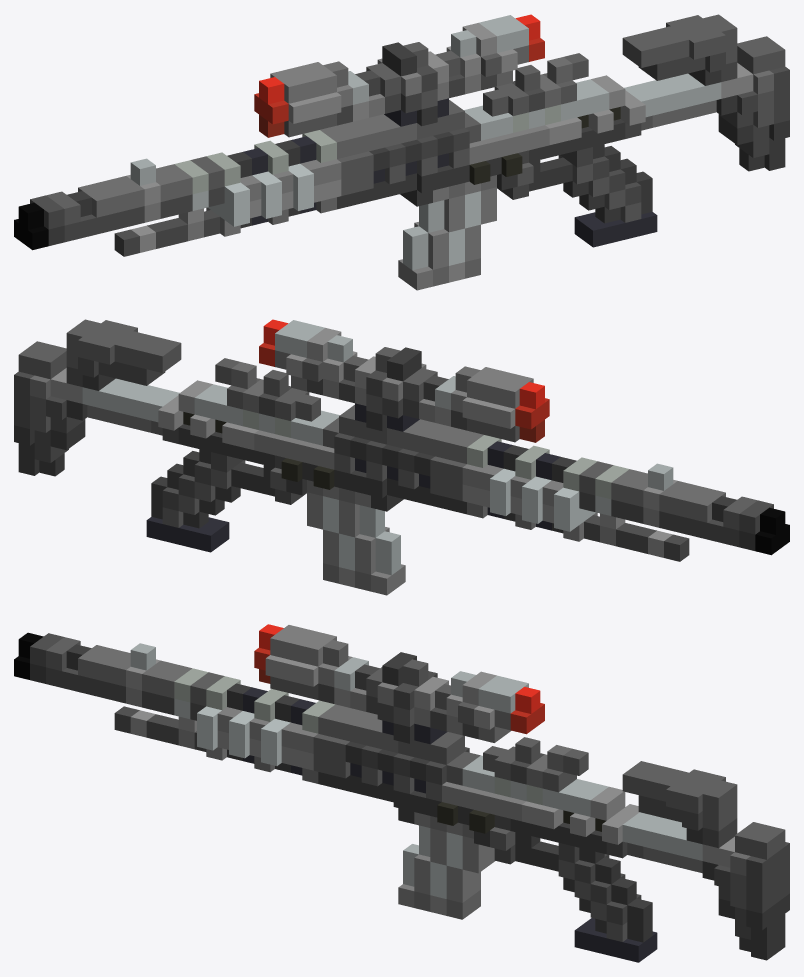
The model's file is AR_SXG_Skaxis.obj.
The picture shows the model from 3 angles, top to bottom: view 1: azimuth 30°, elevation 25°; view 2: azimuth 150°, elevation 25°; view 3: azimuth 330°, elevation 25°; orthographic projection.
Bounding box in the file's own units: 47 × 14 × 4.
